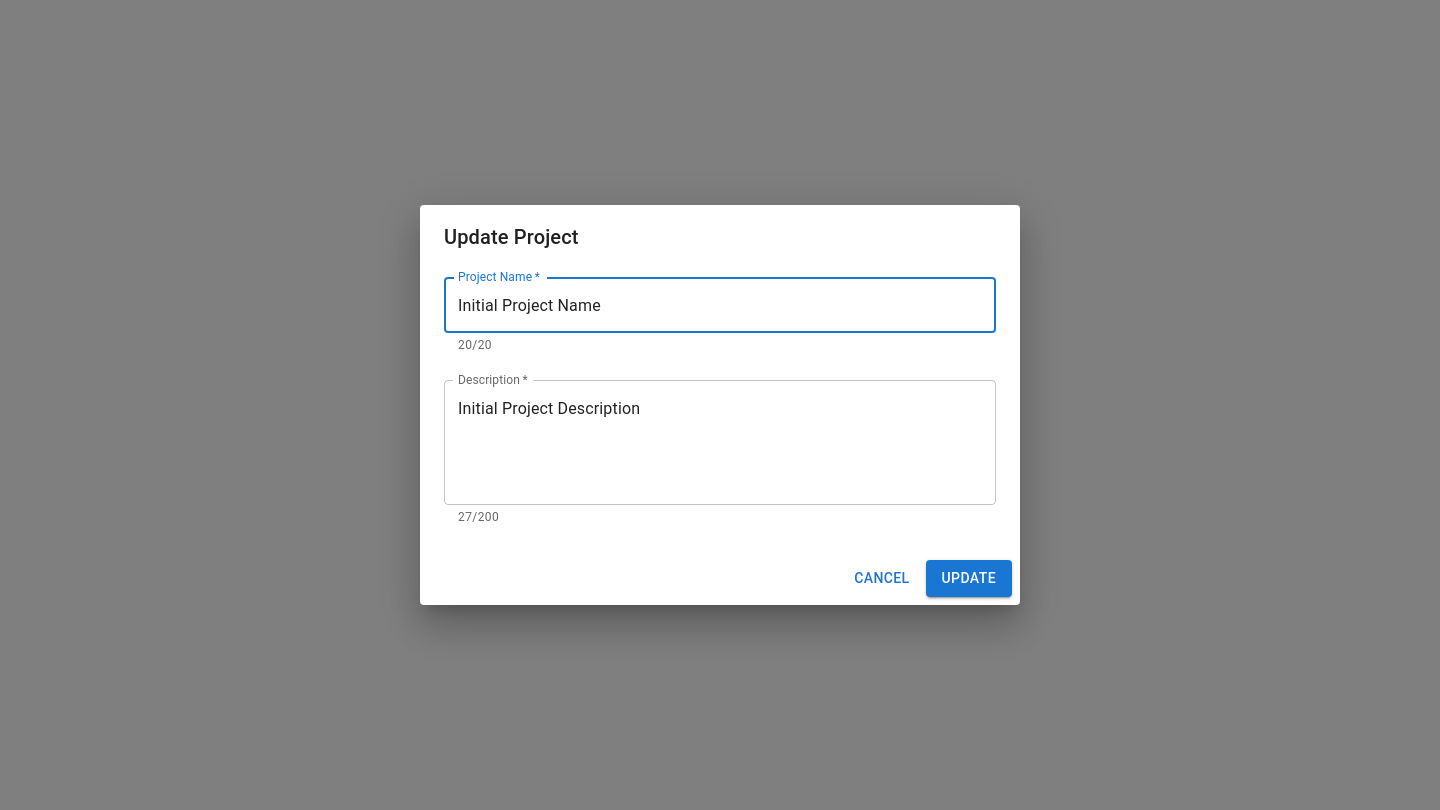
UpdateProjectDialog › should display character count for name field
Replace the text in the field with placeholder "Enter project name" with "Test" at (720, 305), box [444,277,996,333]
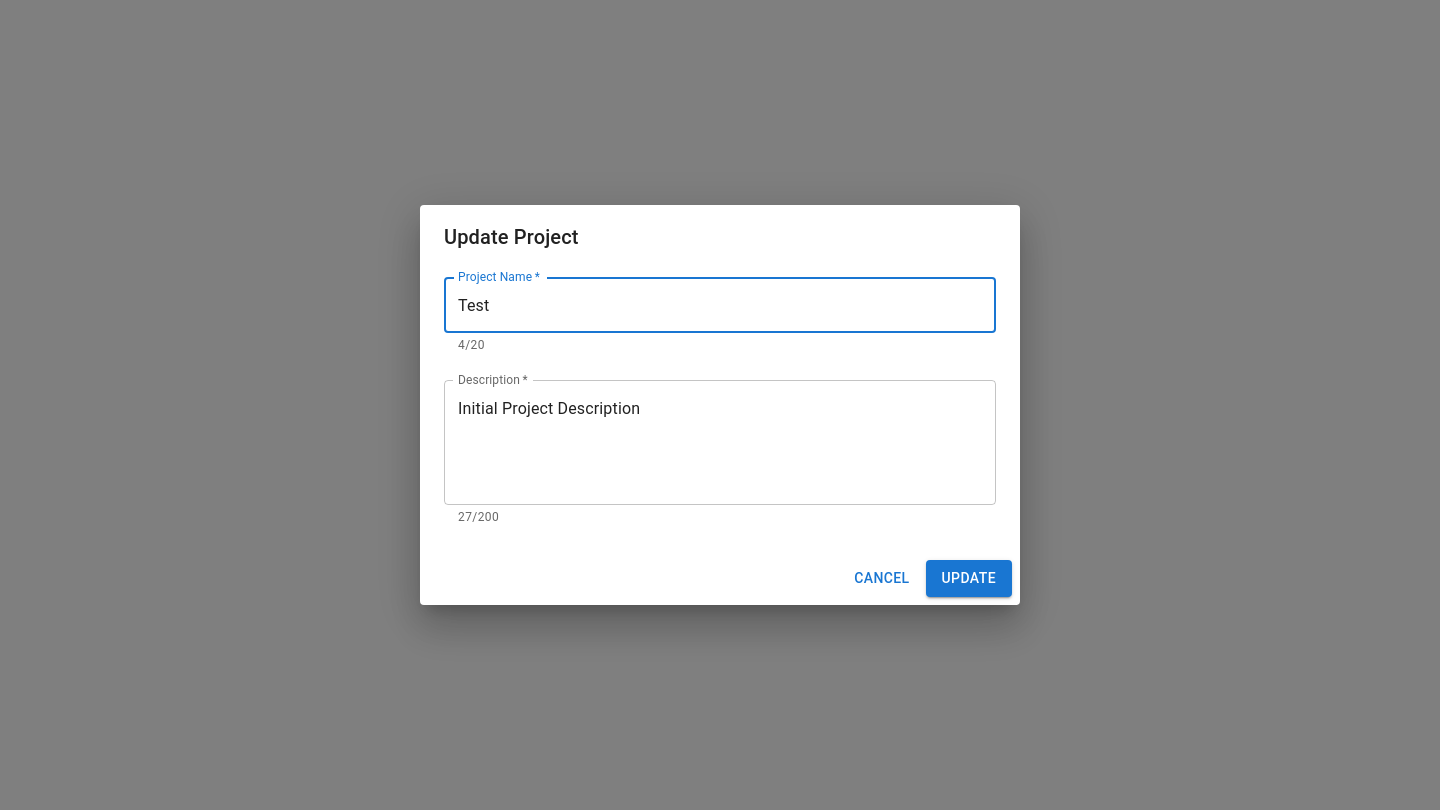
Result: the text "4/20" is shown at [458,338,485,352]
